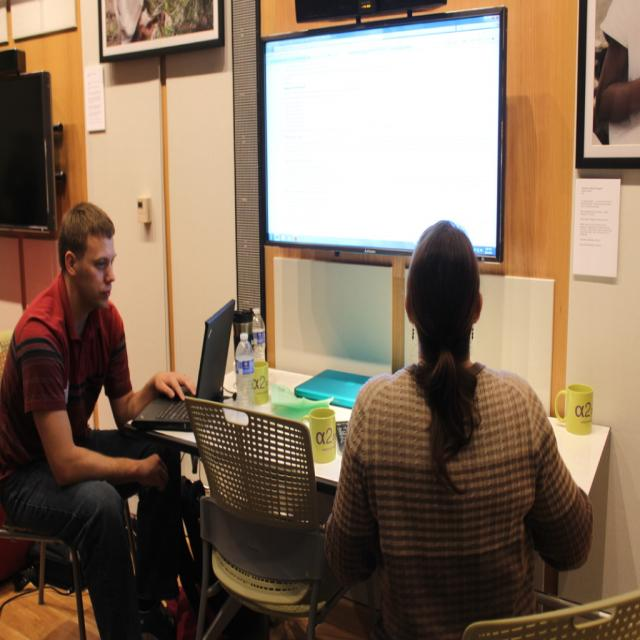chair: (188, 392, 364, 635), (0, 520, 91, 637)
desk: (125, 368, 608, 639)
laptop: (128, 296, 235, 428)
person: (324, 218, 595, 632), (0, 200, 199, 631), (593, 1, 639, 137)
tv: (260, 7, 508, 267), (0, 70, 56, 234)
